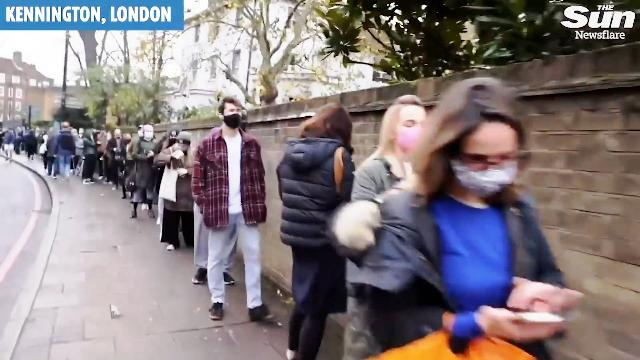berdiri: (192, 91, 270, 331), (128, 124, 164, 222)
